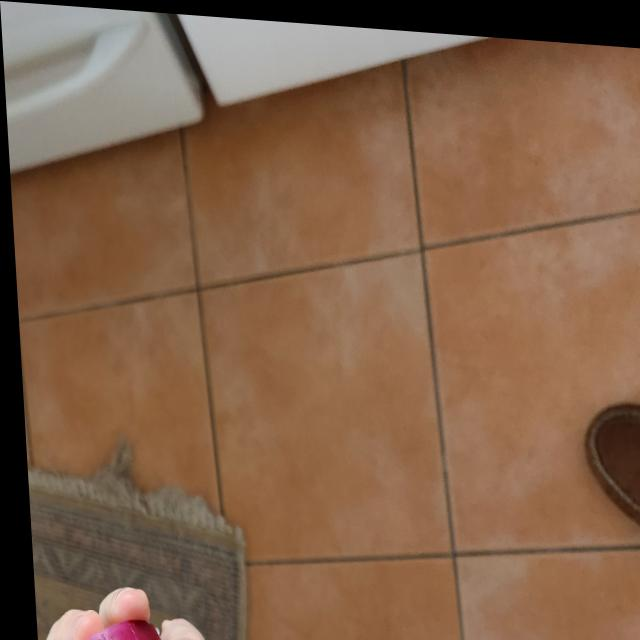red onion: (29, 612, 170, 640)
